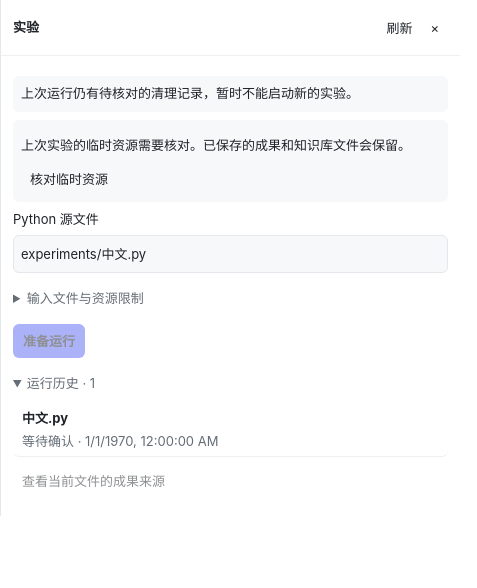
Test: experiment user workflow › reviews cleanup without deleting and asks the Host to confirm the exact reviewed scope
Check: the button "准备运行" is disabled, box [13,324,85,358]
Step 1. Click the button "核对临时资源" → (69, 178), box [21,163,117,194]
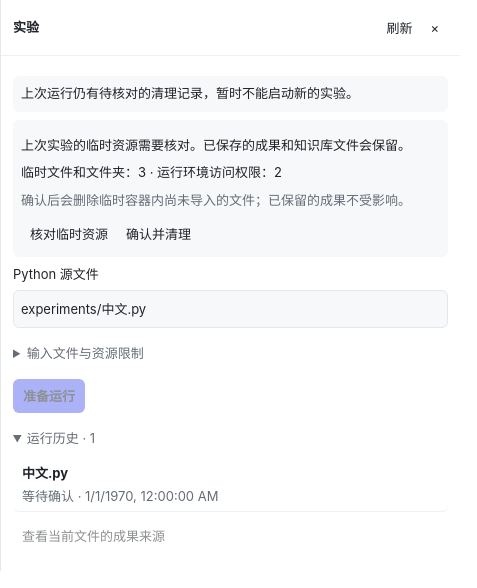
Check: the element with class "cleanup-review" shows "临时文件和文件夹：3", box [21,164,282,180]
Step 2. Click the button "确认并清理" → (158, 234), box [117,218,200,249]
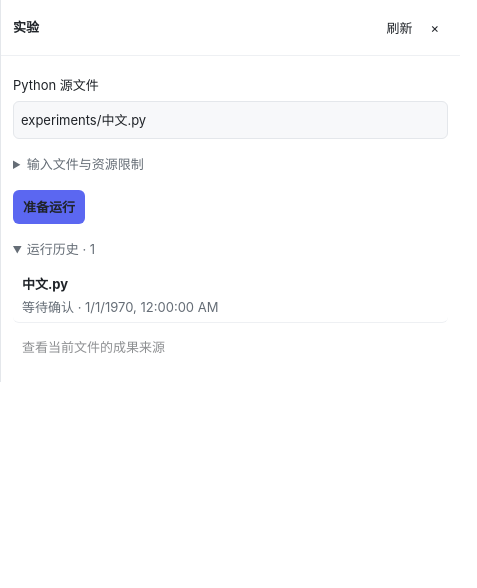
Check: the button "准备运行" is enabled, box [13,190,85,224]
